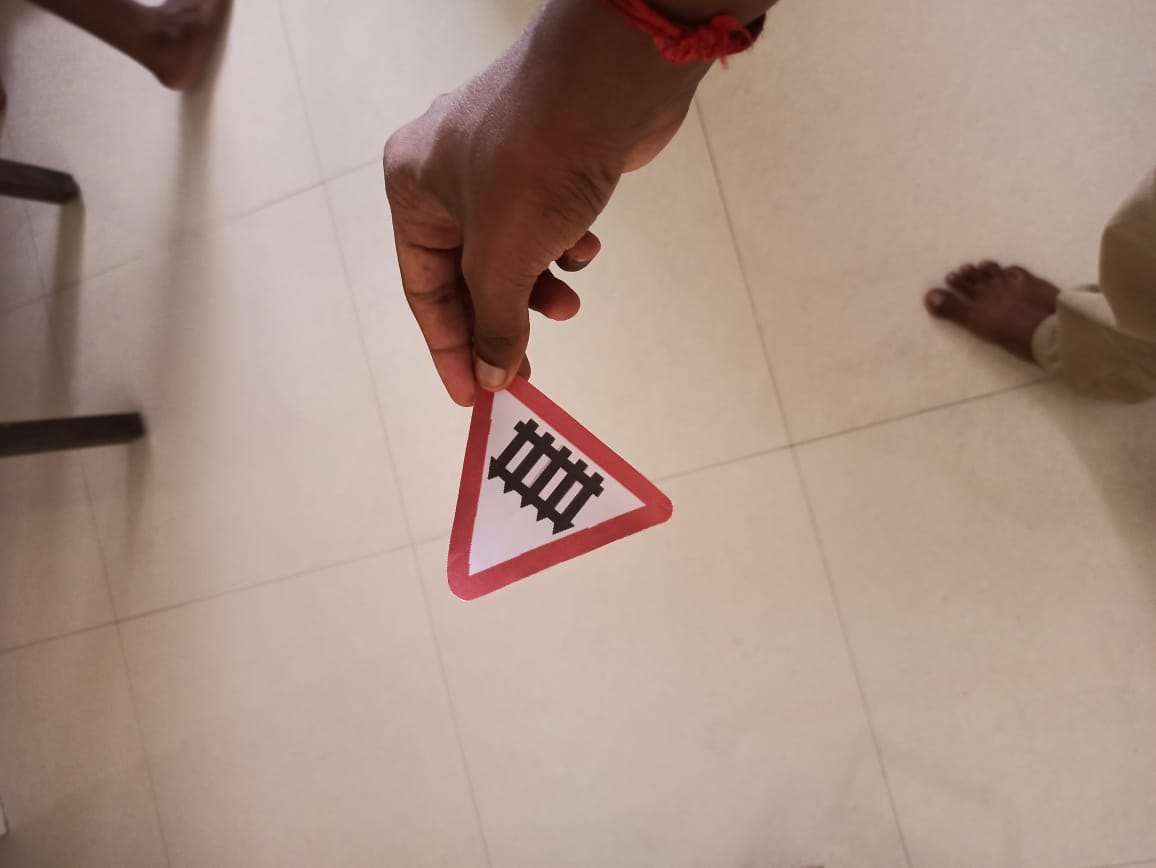GUARDED LEVEL CROSSING: (452, 358, 683, 599)
